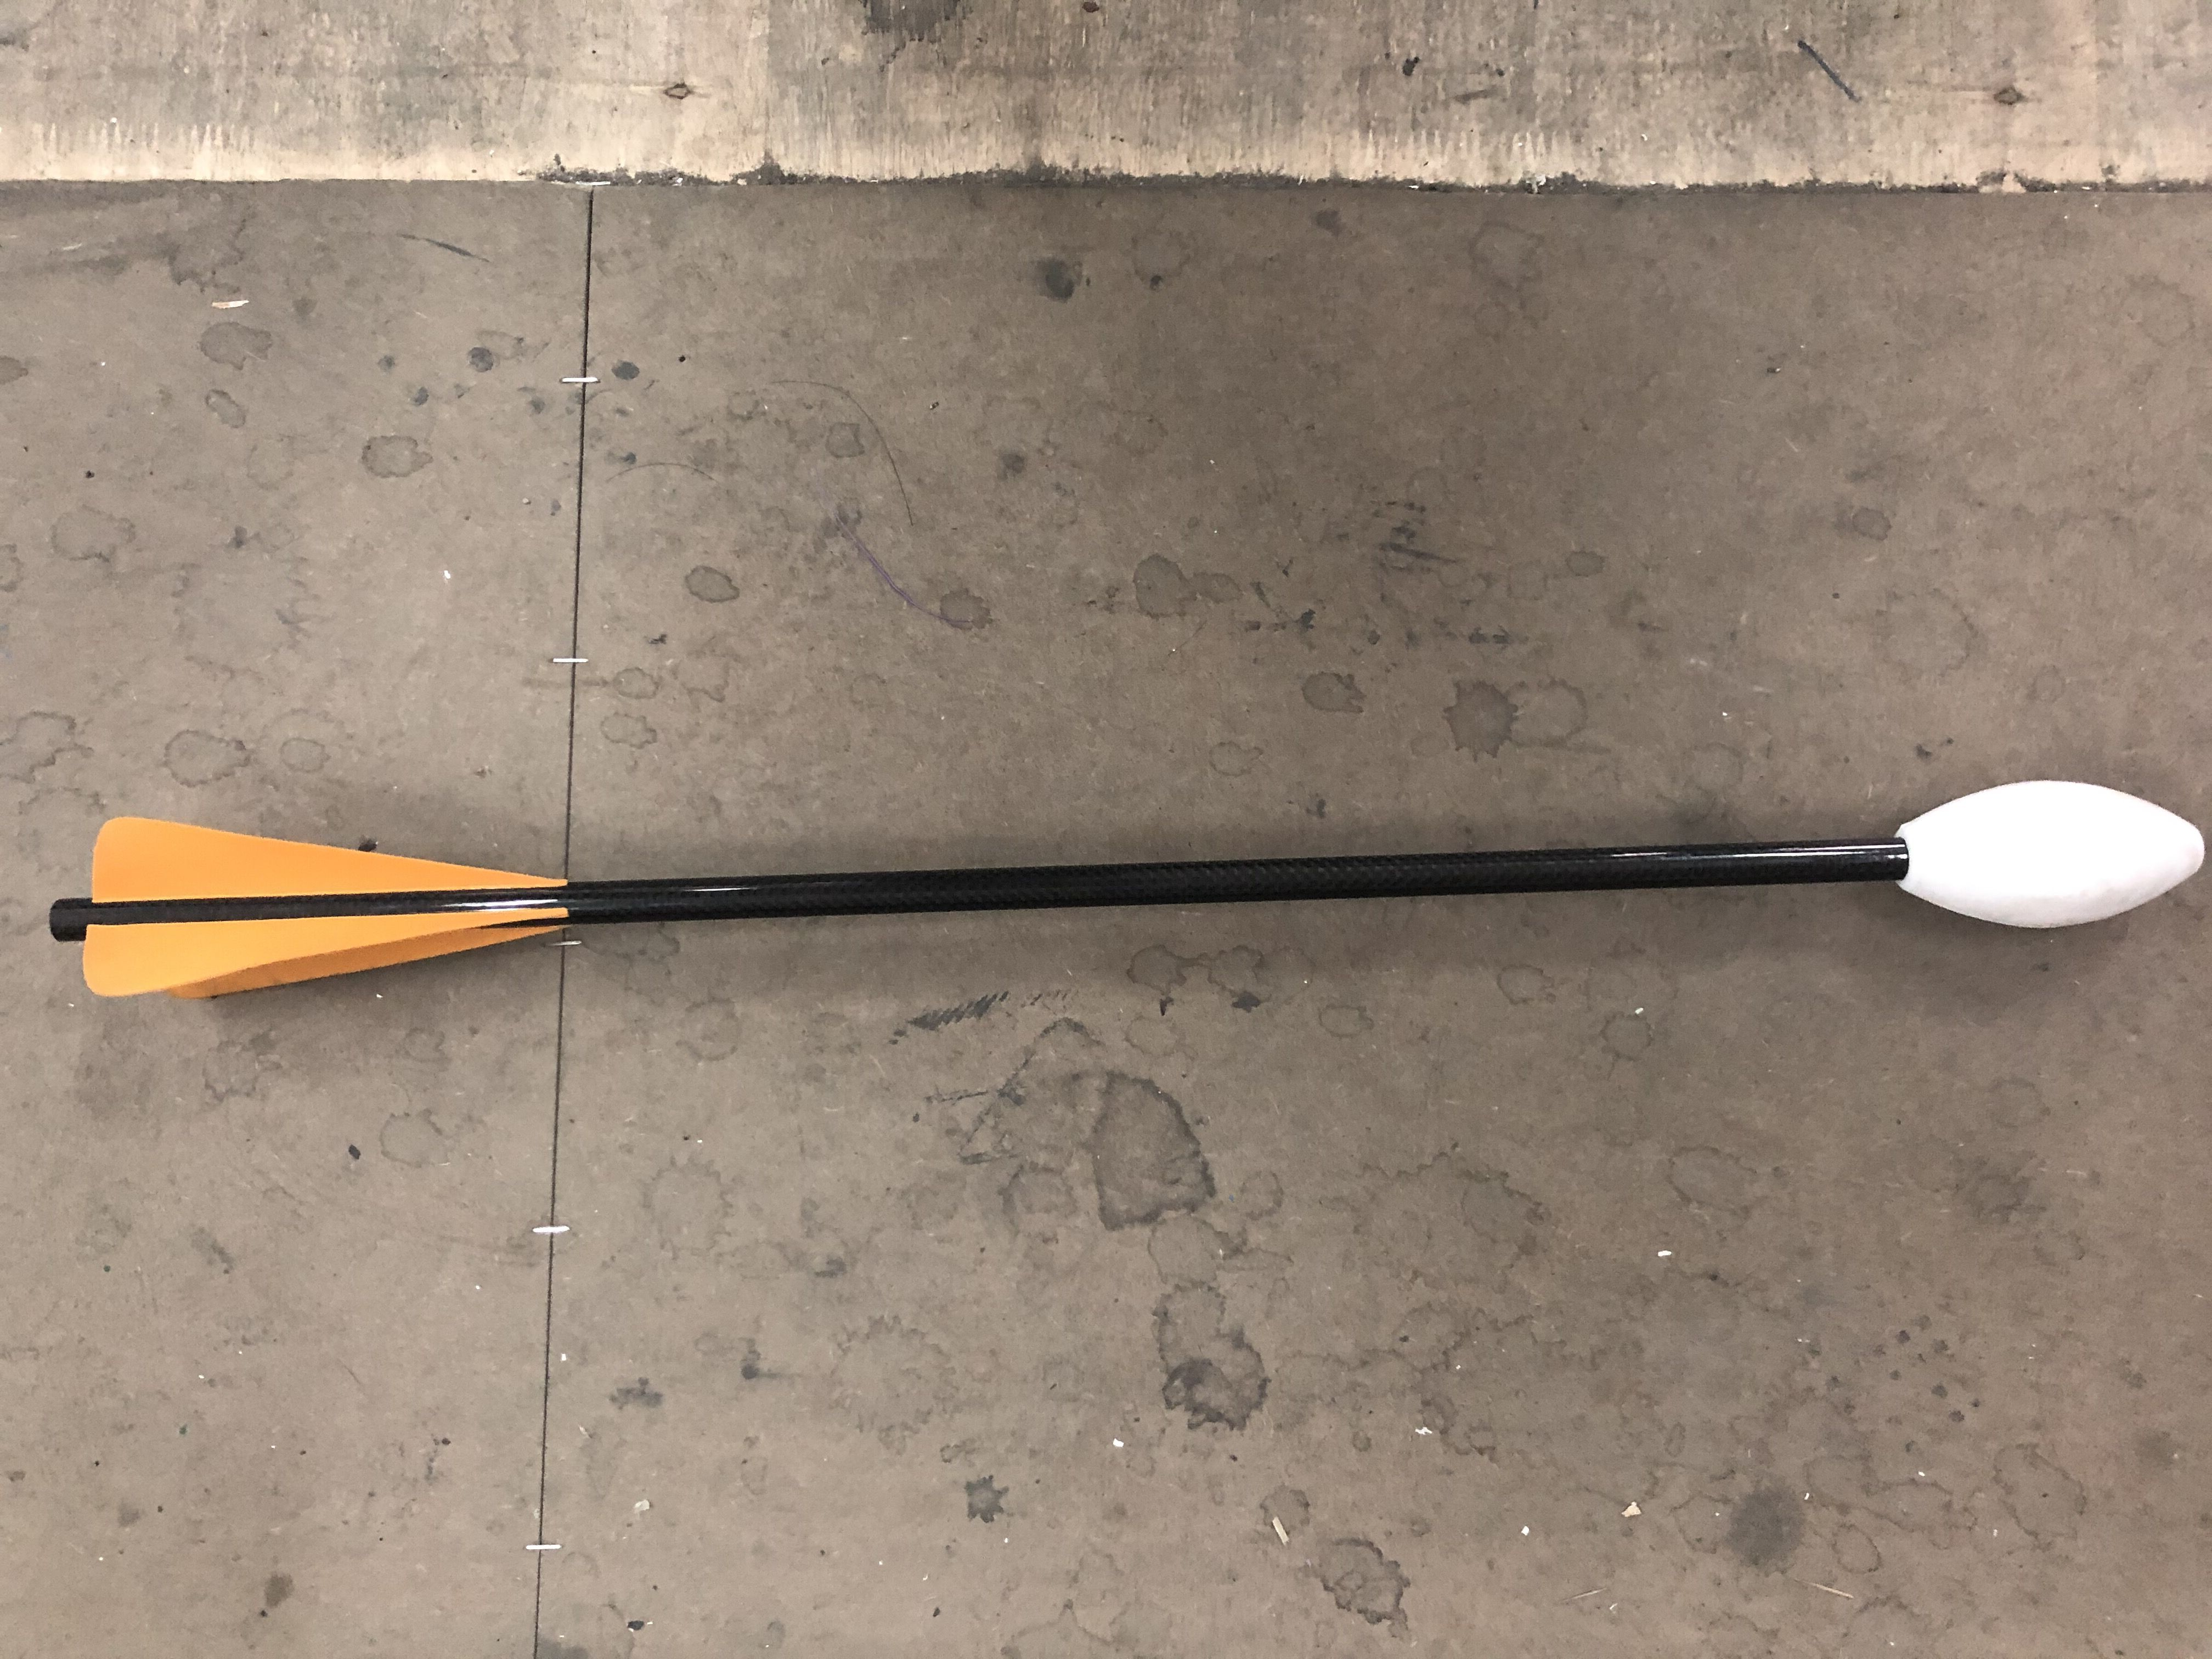arrow: (45, 772, 2212, 1019)
arrowFront: (1895, 774, 2207, 932)
